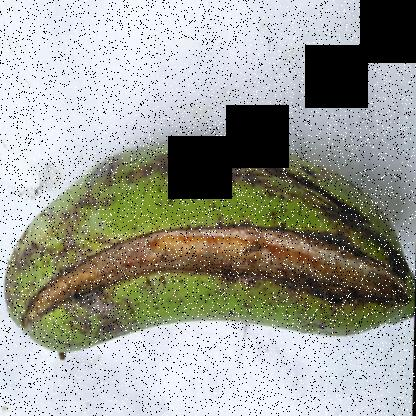rotten: (19, 218, 416, 340)
